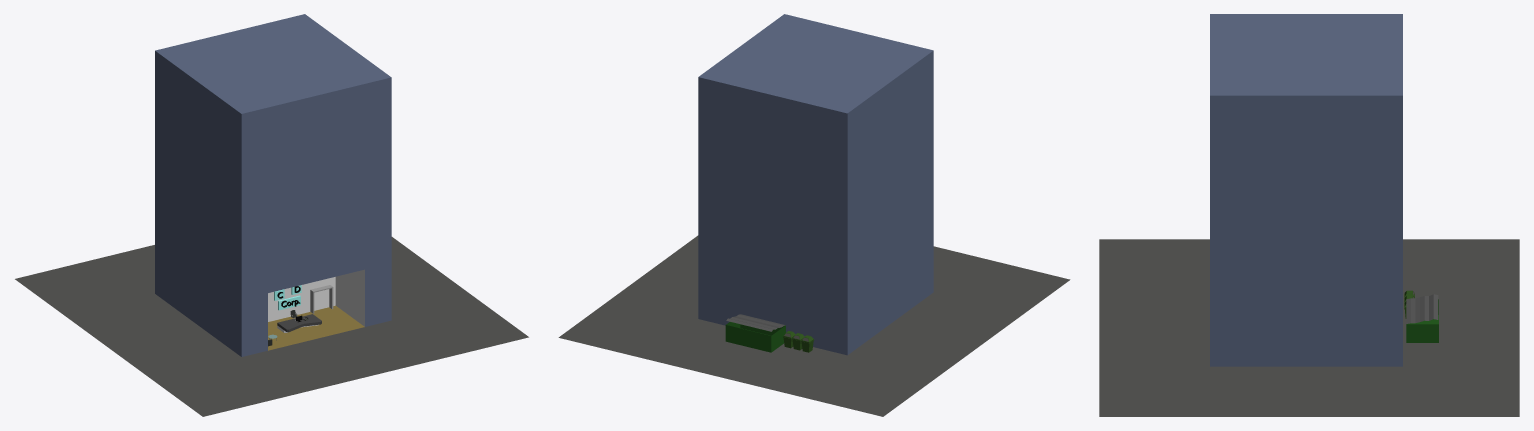
The model's file is Recepción.fbx.
3 renders of one model, left to right at view 1: azimuth 30°, elevation 25°; view 2: azimuth 150°, elevation 25°; view 3: azimuth 270°, elevation 25°, orthographic. The views are drawn at different scales.
Visible parts, largest first — view 1: Cube.001, Plane; view 2: Cube.001, Plane, Cube.013; view 3: Cube.001, Plane, Cube.013.
Boxes of the visible parts, <box> form: Cube.001: <box>155,14,391,356</box>; Plane: <box>15,237,528,416</box>; Cube.001: <box>698,14,933,355</box>; Plane: <box>558,235,1070,416</box>; Cube.013: <box>725,314,785,352</box>; Cube.001: <box>1210,14,1402,366</box>; Plane: <box>1099,239,1519,416</box>; Cube.013: <box>1406,294,1438,342</box>.
Bounding box in the file's own units: 4045 × 3005 × 4045.
